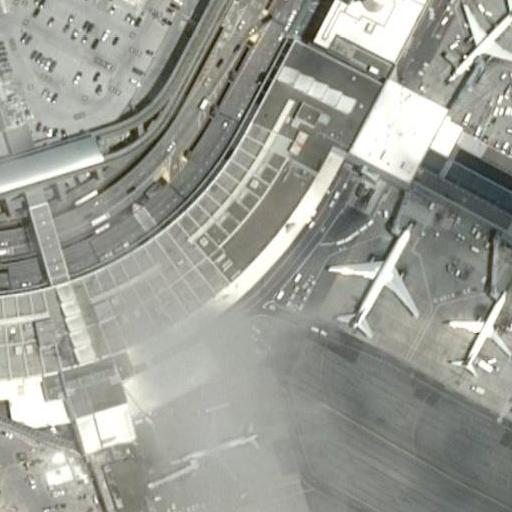Aircraft: (324, 219, 424, 341), (439, 0, 512, 83), (438, 292, 512, 373)
